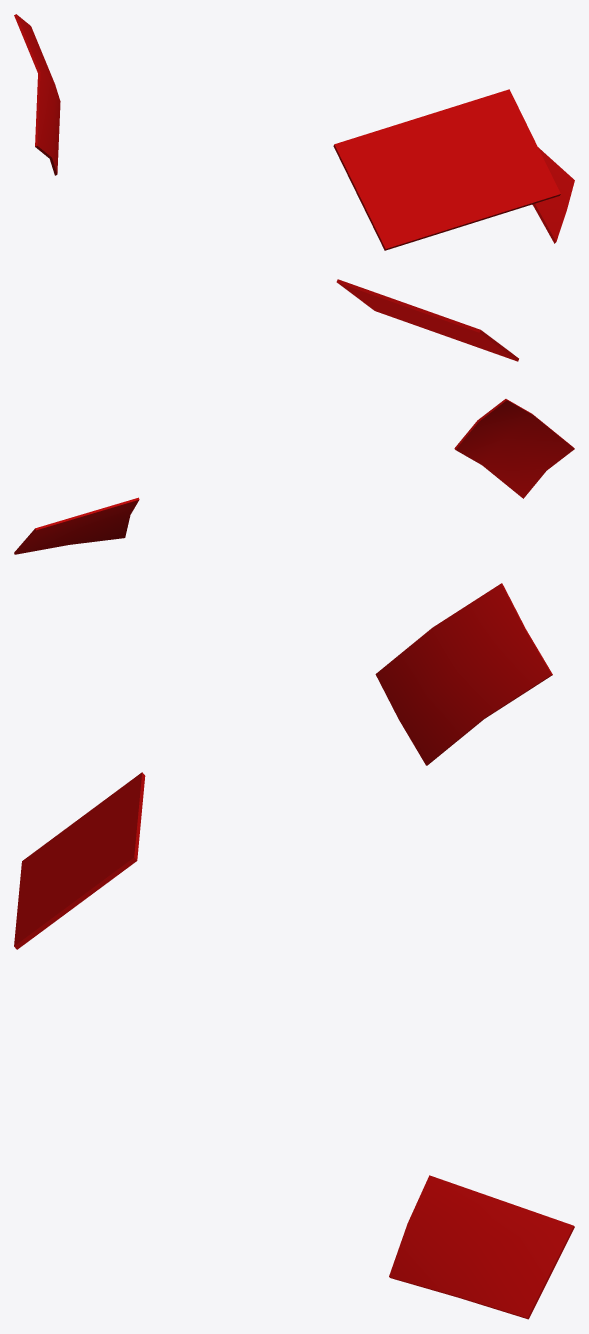
Rendered from potachan_post_acc.fbx.
3 renders of one model, top to bottom at view 1: azimuth 30°, elevation 25°; view 2: azimuth 150°, elevation 25°; view 3: azimuth 270°, elevation 25°, orthographic. The views are drawn at different scales.
Visible parts, largest first — view 1: clo2_l_01, clo2_l_02, clo2_l_03; view 2: clo2_l_02, clo2_l_03, clo2_l_01; view 3: clo2_l_02, clo2_l_03, clo2_l_01.
Part boxes in pixels (box(x1,y1,x2,y2)): clo2_l_01: box(333, 89, 560, 250); clo2_l_02: box(14, 14, 60, 175); clo2_l_03: box(532, 147, 574, 243); clo2_l_02: box(454, 399, 574, 498); clo2_l_03: box(14, 497, 139, 554); clo2_l_01: box(336, 279, 518, 361); clo2_l_02: box(375, 583, 552, 765); clo2_l_03: box(389, 1175, 574, 1319); clo2_l_01: box(14, 772, 145, 949).
Bounding box in the file's own units: 13.03 × 6.58 × 8.47.
